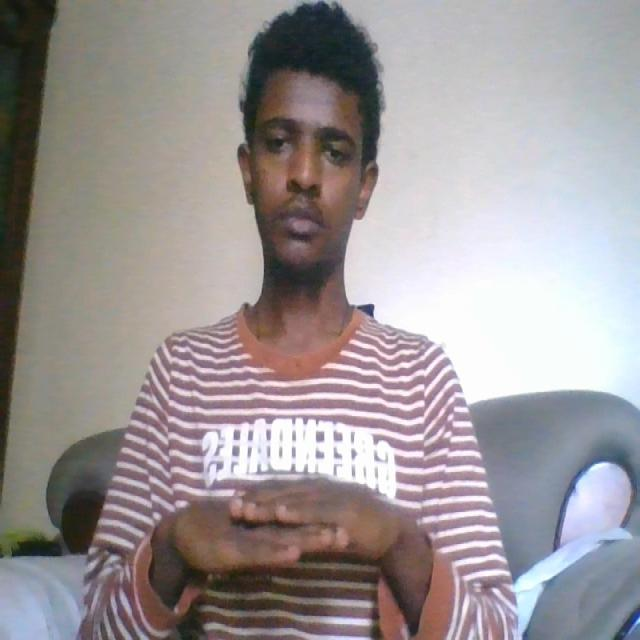lay: (157, 465, 413, 583)
